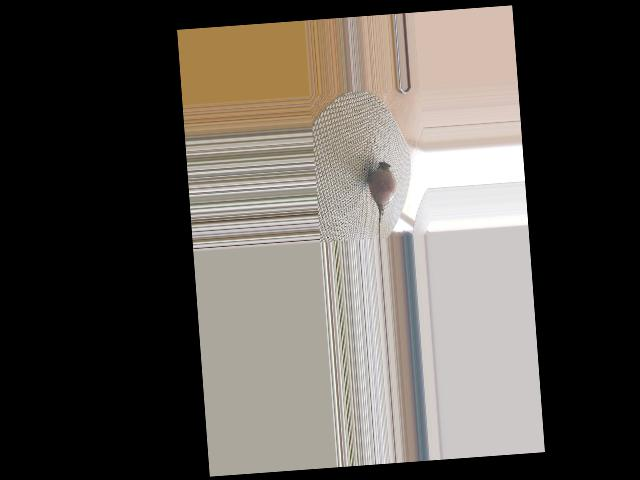beet: (367, 160, 400, 238)
